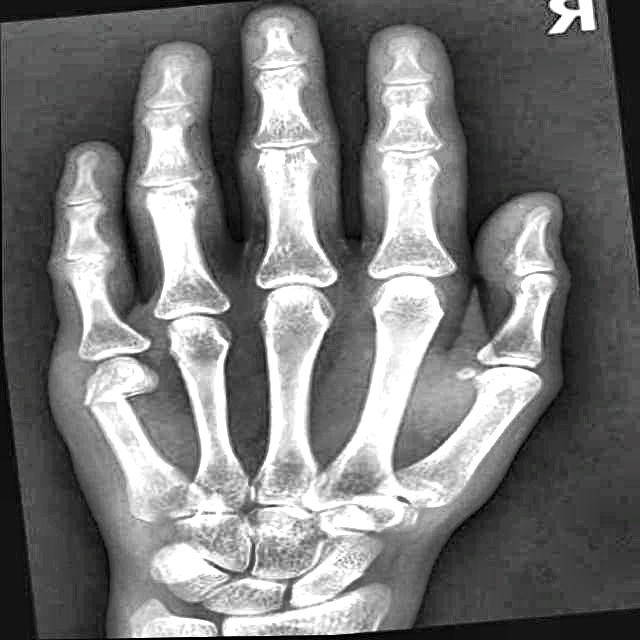Segmental: (51, 338, 158, 429)
